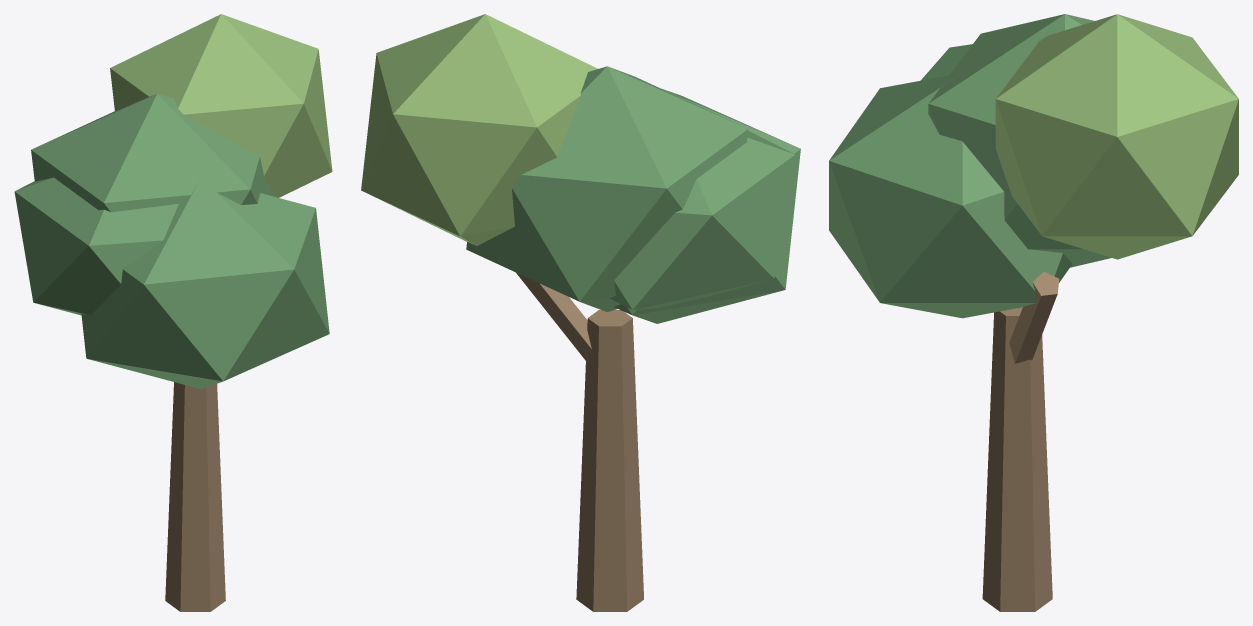
File: civ_nature_broadleaf.glb
3 renders of one model, left to right at view 1: azimuth 30°, elevation 25°; view 2: azimuth 150°, elevation 25°; view 3: azimuth 270°, elevation 25°, orthographic. The views are drawn at different scales.
Parts seen in each view (by area): view 1: civ_nature_broadleaf; view 2: civ_nature_broadleaf; view 3: civ_nature_broadleaf.
Part boxes in pixels (x1=…): civ_nature_broadleaf: x1=14, y1=14, x2=332, y2=611; civ_nature_broadleaf: x1=361, y1=14, x2=800, y2=611; civ_nature_broadleaf: x1=829, y1=14, x2=1238, y2=611.
Size of the model in its own units: 1.47 by 2.35 by 1.4.
